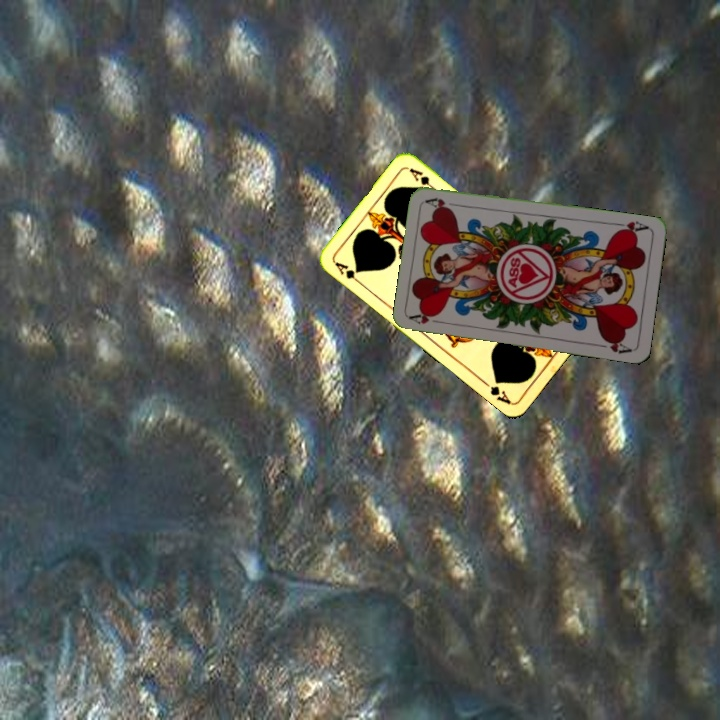GA: (330, 258, 365, 288)
HA: (611, 217, 651, 237), (407, 309, 447, 327)
